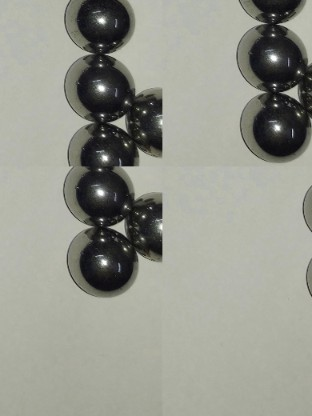ironball: (62, 226, 135, 299), (62, 55, 135, 125), (239, 95, 308, 164), (61, 165, 139, 226), (235, 26, 304, 92), (59, 0, 139, 51), (61, 120, 145, 166), (122, 82, 160, 160), (127, 190, 162, 264), (244, 0, 304, 25)
